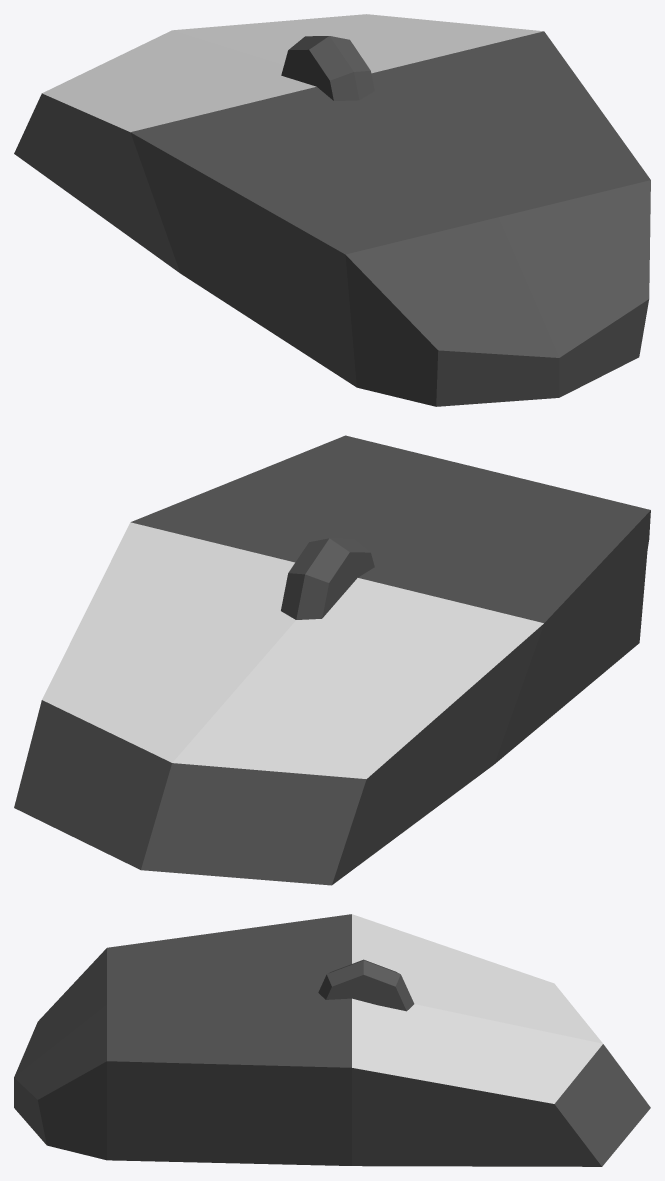
File: Computer_Mouse.fbx
The picture shows the model from 3 angles, top to bottom: view 1: azimuth 30°, elevation 25°; view 2: azimuth 150°, elevation 25°; view 3: azimuth 270°, elevation 25°; orthographic projection. The views are drawn at different scales.
Visible parts, largest first — view 1: Computer_Mouse; view 2: Computer_Mouse; view 3: Computer_Mouse.
Boxes of the visible parts, box(x1,y1,x2,y2) form: Computer_Mouse: box(14, 14, 650, 406); Computer_Mouse: box(14, 435, 650, 885); Computer_Mouse: box(14, 914, 650, 1166).
Size of the model in its own units: 8.66 by 3.87 by 15.16.
